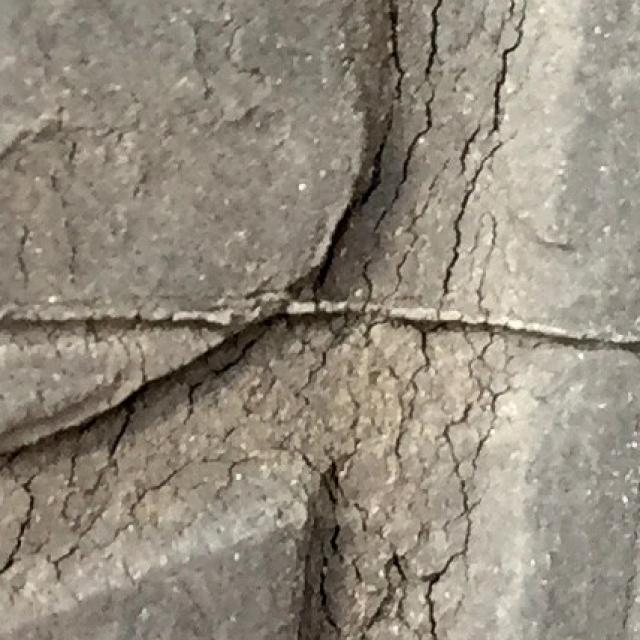Cracks: (0, 0, 568, 639)
